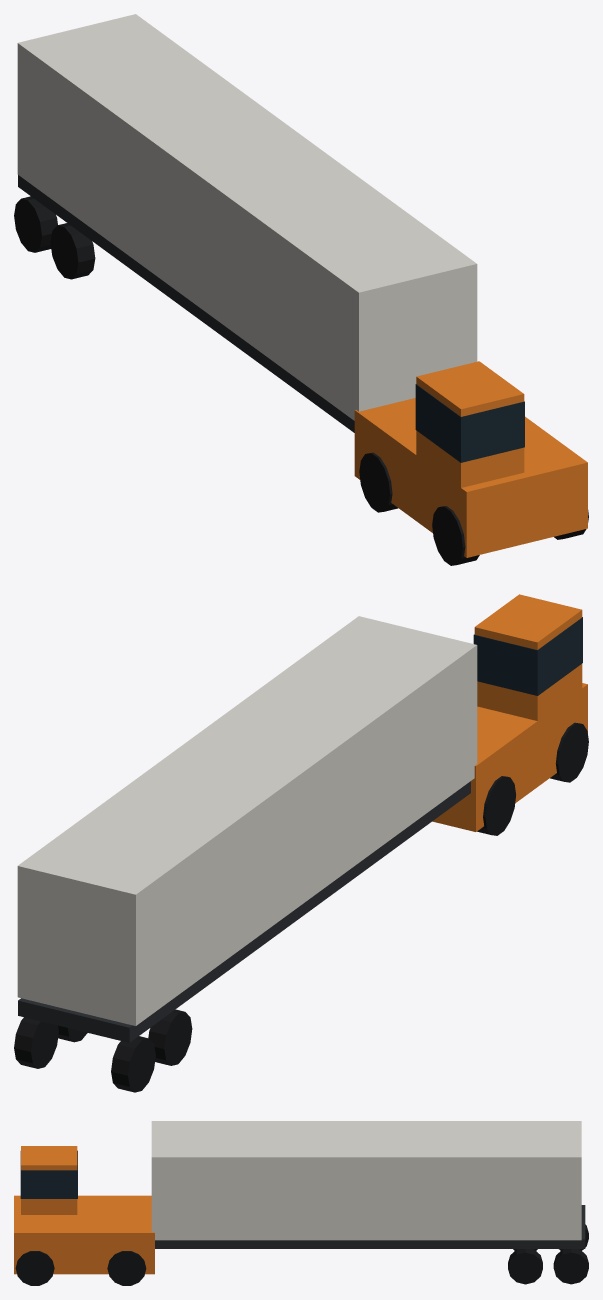
The model's file is terminal_tractor_b.glb.
3 renders of one model, top to bottom at view 1: azimuth 30°, elevation 25°; view 2: azimuth 150°, elevation 25°; view 3: azimuth 270°, elevation 25°, orthographic. The views are drawn at different scales.
Parts seen in each view (by area): view 1: tt; view 2: tt; view 3: tt.
Boxes of the visible parts, <box> form: tt: <box>14,14,588,565</box>; tt: <box>14,594,588,1092</box>; tt: <box>14,1121,588,1285</box>.
Size of the model in its own units: 2.6 by 3.99 by 16.3.
